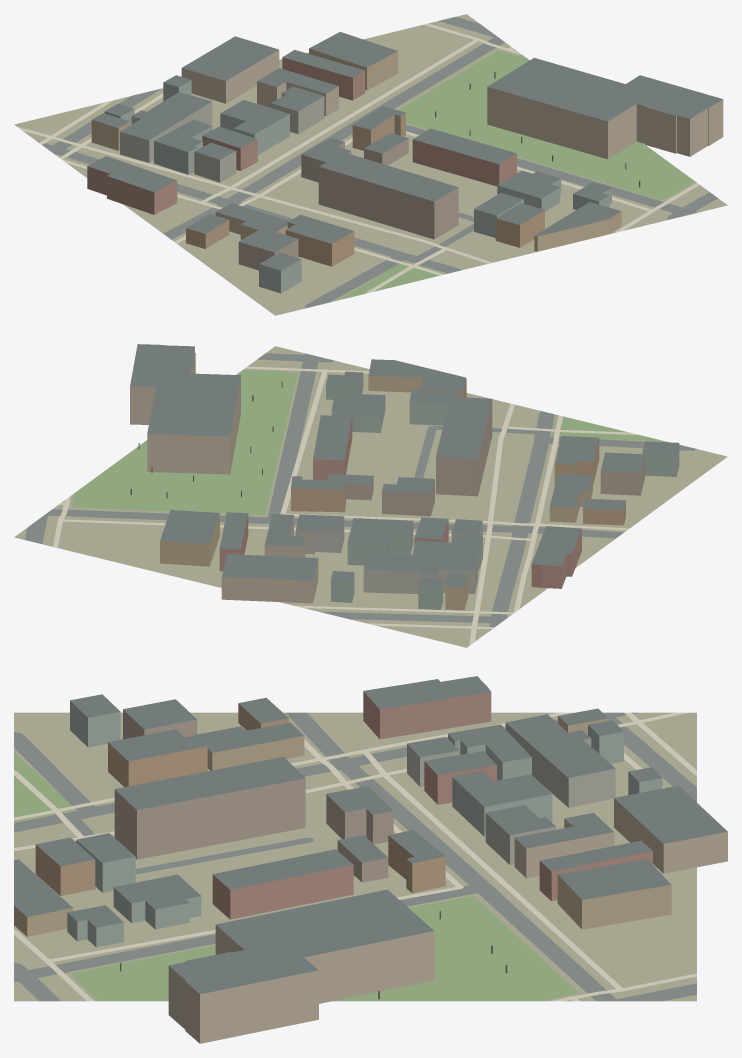
Rendered from sector--3_0.glb.
3 renders of one model, top to bottom at view 1: azimuth 30°, elevation 25°; view 2: azimuth 150°, elevation 25°; view 3: azimuth 270°, elevation 25°, orthographic. The views are drawn at different scales.
Visible parts, largest first — view 1: -3:0-facade, -3:0-roof, -3:0-ground, -3:0-park, -3:0-road, -3:0-paving; view 2: -3:0-ground, -3:0-roof, -3:0-facade, -3:0-park, -3:0-road, -3:0-paving; view 3: -3:0-facade, -3:0-roof, -3:0-ground, -3:0-park, -3:0-road, -3:0-paving.
Boxes of the visible parts, x1,y1,x2,y2 form: -3:0-facade: (87, 48, 723, 293); -3:0-roof: (87, 32, 722, 270); -3:0-ground: (14, 14, 727, 315); -3:0-park: (337, 50, 695, 300); -3:0-road: (37, 16, 717, 308); -3:0-paving: (17, 23, 699, 293); -3:0-ground: (14, 346, 727, 647); -3:0-roof: (130, 344, 679, 587); -3:0-facade: (130, 347, 679, 610); -3:0-park: (72, 370, 665, 514); -3:0-road: (25, 353, 697, 631); -3:0-paving: (53, 366, 636, 645); -3:0-facade: (14, 691, 727, 1043); -3:0-roof: (14, 676, 727, 994); -3:0-ground: (14, 712, 696, 1001); -3:0-park: (14, 752, 578, 1001); -3:0-road: (14, 712, 696, 1001); -3:0-paving: (14, 712, 696, 1001).
Size of the model in its own units: 234 by 16 by 209.
